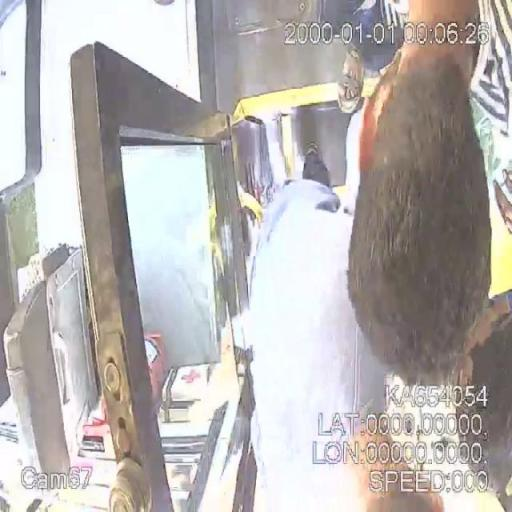persona: (341, 1, 510, 391)
